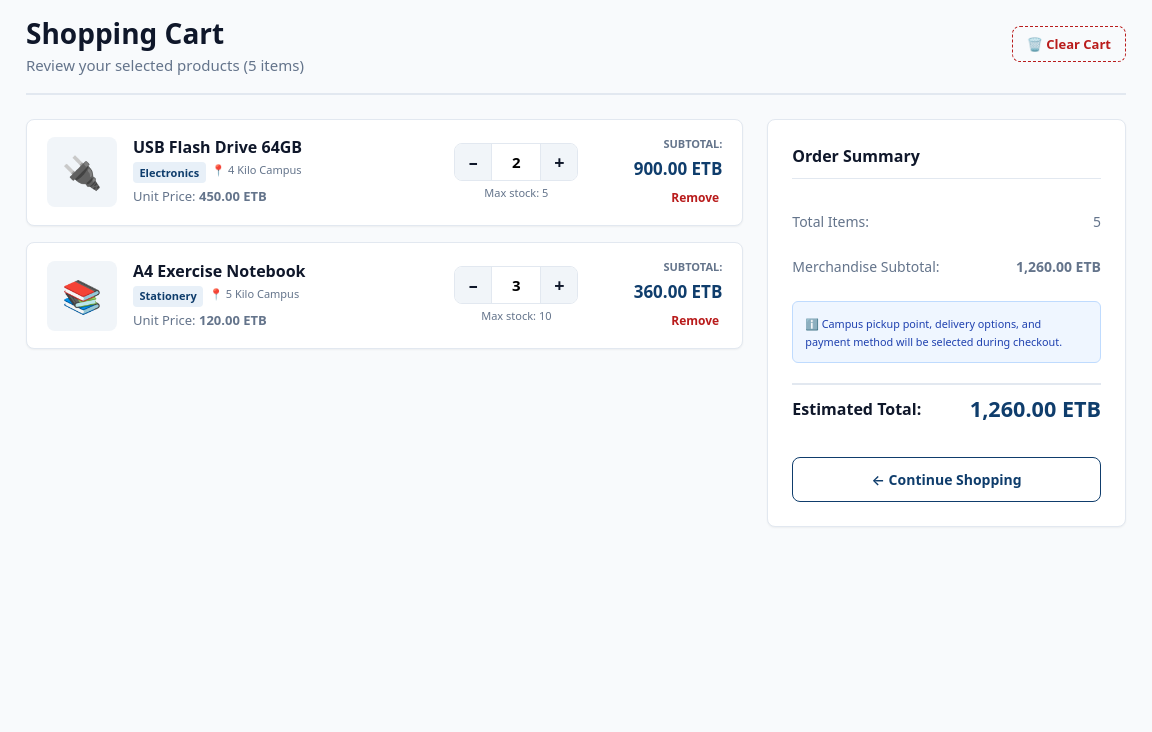
Test case: CartPage Component › removes an item from the cart
Click the button with aria-label "Remove USB Flash Drive 64GB from cart": (695, 197) [668,186,722,209]
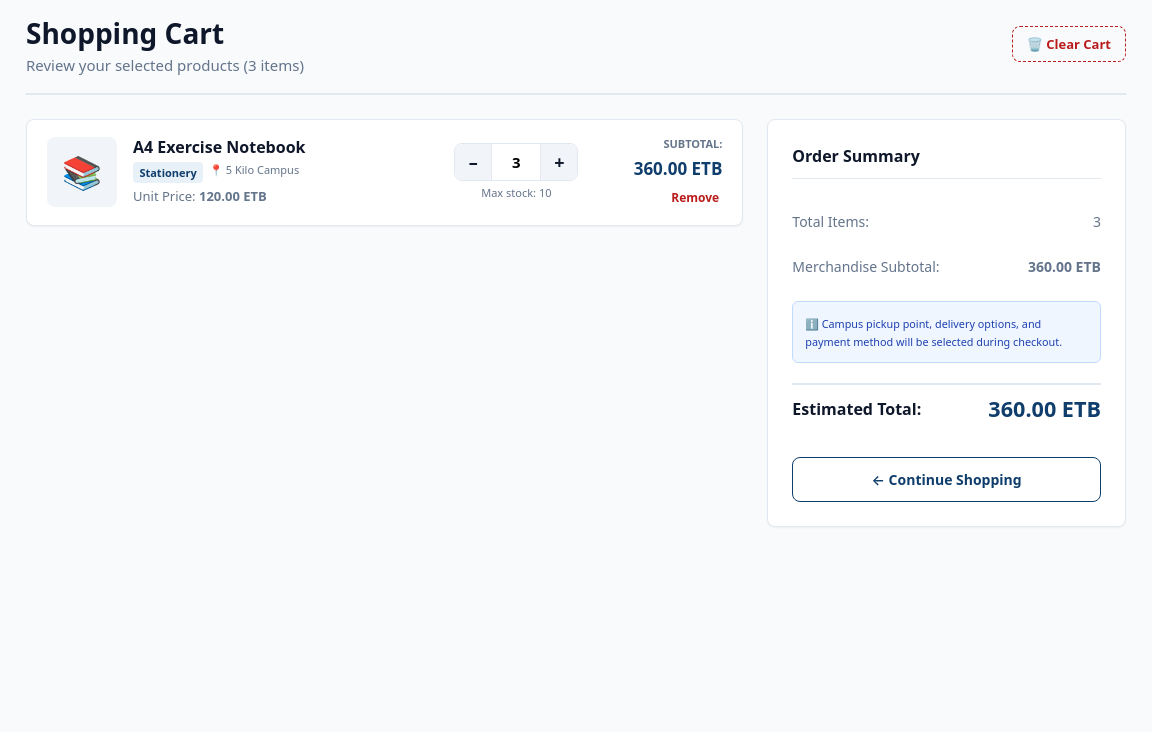
Expected: the heading "A4 Exercise Notebook" is shown, [133,136,306,158]
Expected: the heading "USB Flash Drive 64GB" is gone
Expected: the text "360.00 ETB" is shown 3 times, [634,156,722,182]; [1028,256,1101,276]; [988,393,1101,425]
